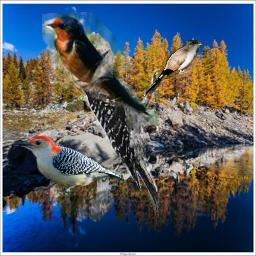Cuckoo: (143, 40, 204, 96)
Swallow: (42, 12, 159, 126)
Woodpecker: (68, 48, 164, 220), (13, 136, 124, 196)
